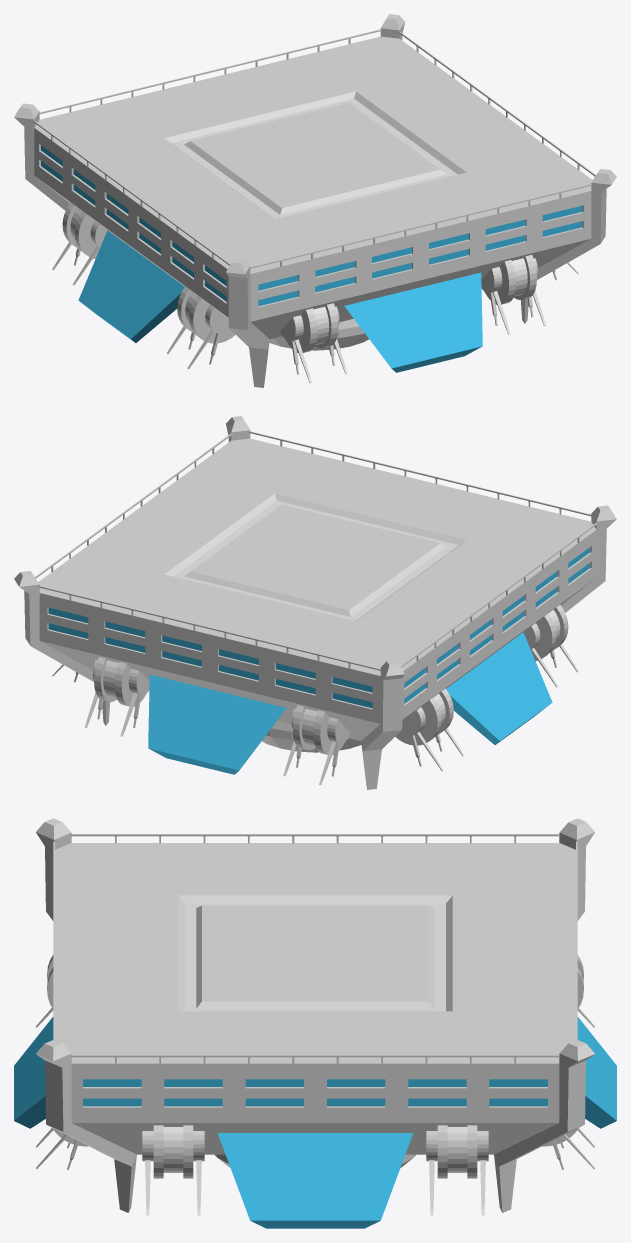
The model's file is Chroma Floating Platform 2.fbx.
The picture shows the model from 3 angles, top to bottom: view 1: azimuth 30°, elevation 25°; view 2: azimuth 150°, elevation 25°; view 3: azimuth 270°, elevation 25°; orthographic projection. The views are drawn at different scales.
Visible parts, largest first — view 1: Cube; view 2: Cube; view 3: Cube.
Part boxes in pixels (x1=…): Cube: x1=14, y1=14, x2=616, y2=387; Cube: x1=14, y1=416, x2=616, y2=789; Cube: x1=14, y1=818, x2=616, y2=1228.
Size of the model in its own units: 531 by 235 by 531.
